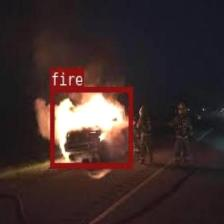fire: (50, 86, 132, 168)
